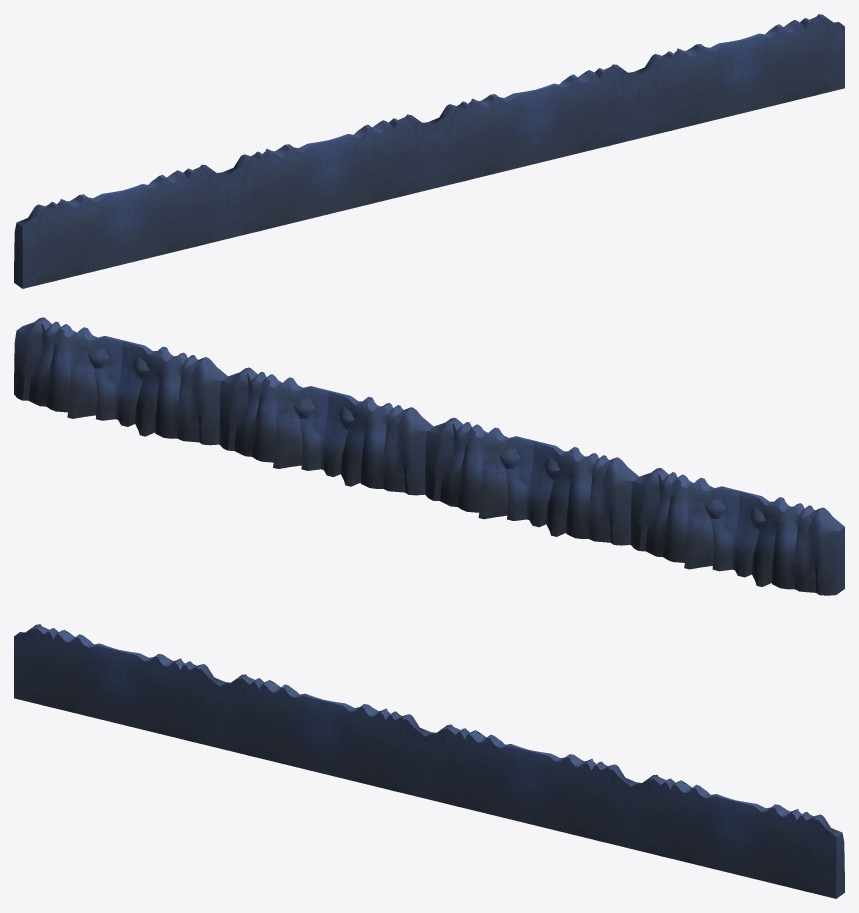
File: sea_fbx_wall.fbx
3 views of the same model, one above another, from view 1: azimuth 30°, elevation 25°; view 2: azimuth 150°, elevation 25°; view 3: azimuth 330°, elevation 25° (orthographic).
Visible parts, largest first — view 1: polySurface1; view 2: polySurface1; view 3: polySurface1.
Part boxes in pixels (x1,y1,x2,y2): polySurface1: (14, 14, 844, 288); polySurface1: (14, 317, 844, 595); polySurface1: (14, 624, 844, 898).
Size of the model in its own units: 120 by 10.56 by 4.82.
Materials: 2 (1 with a texture image).
